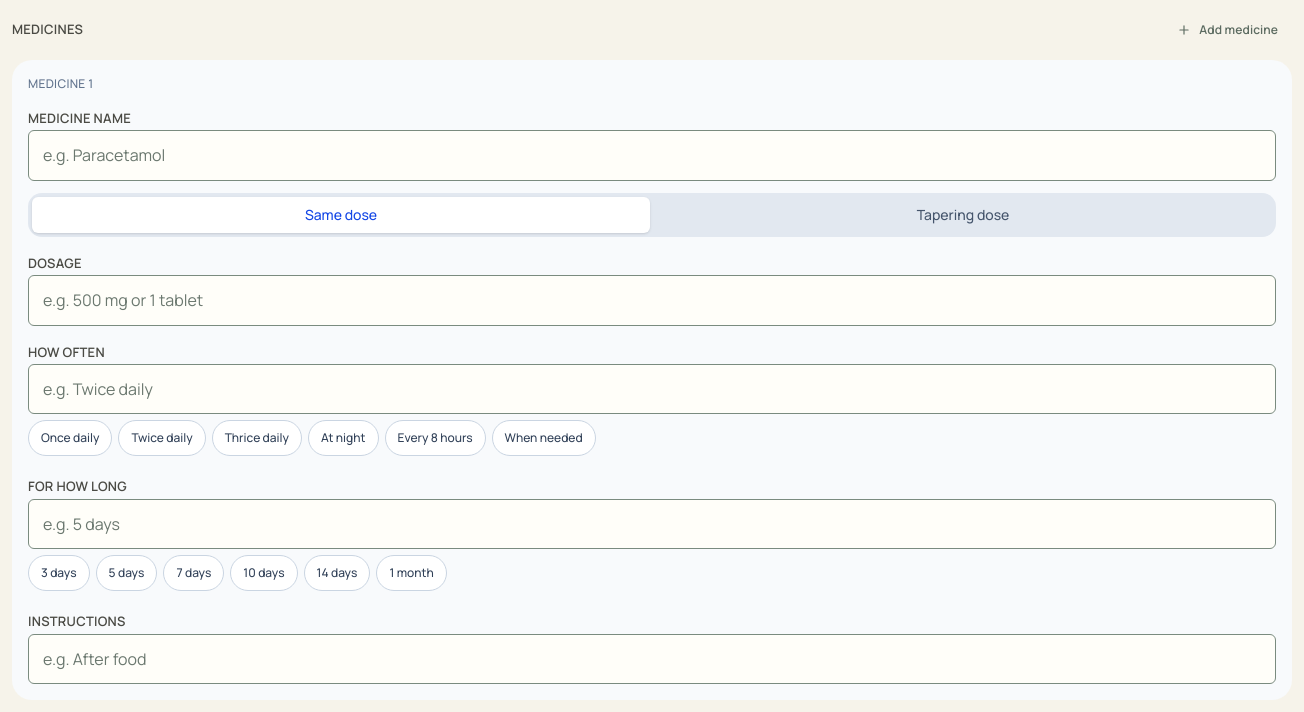
Test: medicine name dropdown › fills every remembered field when one is chosen
Step 1. Type "par" into the dropdown labelled "Medicine name" → [652, 156], box [28,130,1276,181]
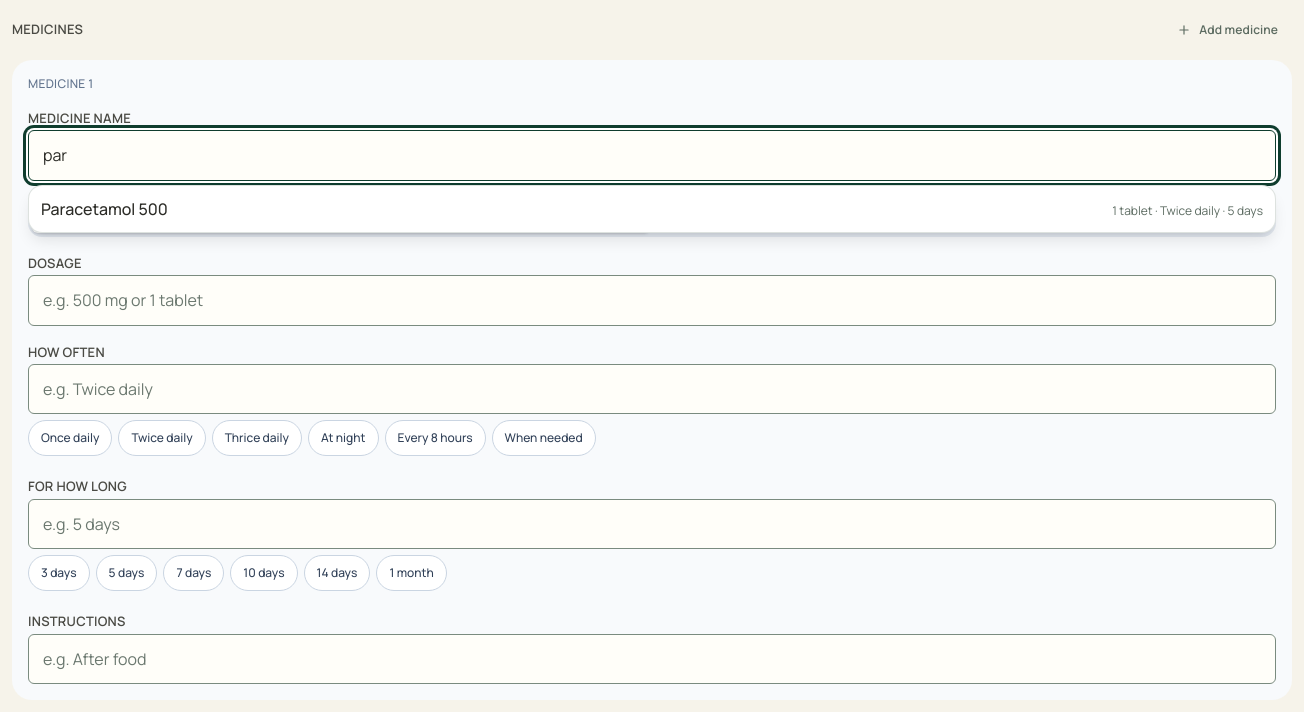
Step 2. Click the option "Paracetamol 500 1 tablet · Twice daily · 5 days" → [104, 209], box [41,198,1263,220]
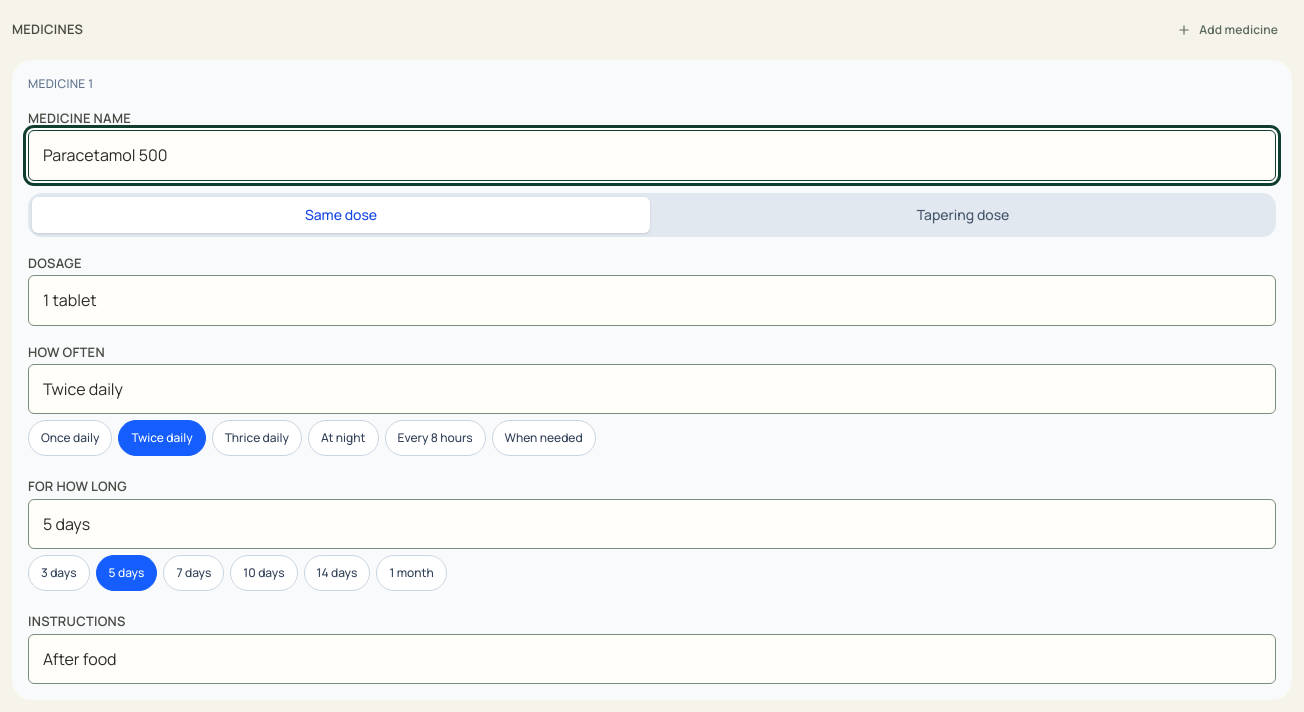
Now the dropdown labelled "Medicine name" holds "Paracetamol 500", box [28,130,1276,181]
Now the field labelled "Dosage" holds "1 tablet", box [28,275,1276,326]
Now the field labelled "Instructions" holds "After food", box [28,634,1276,684]
